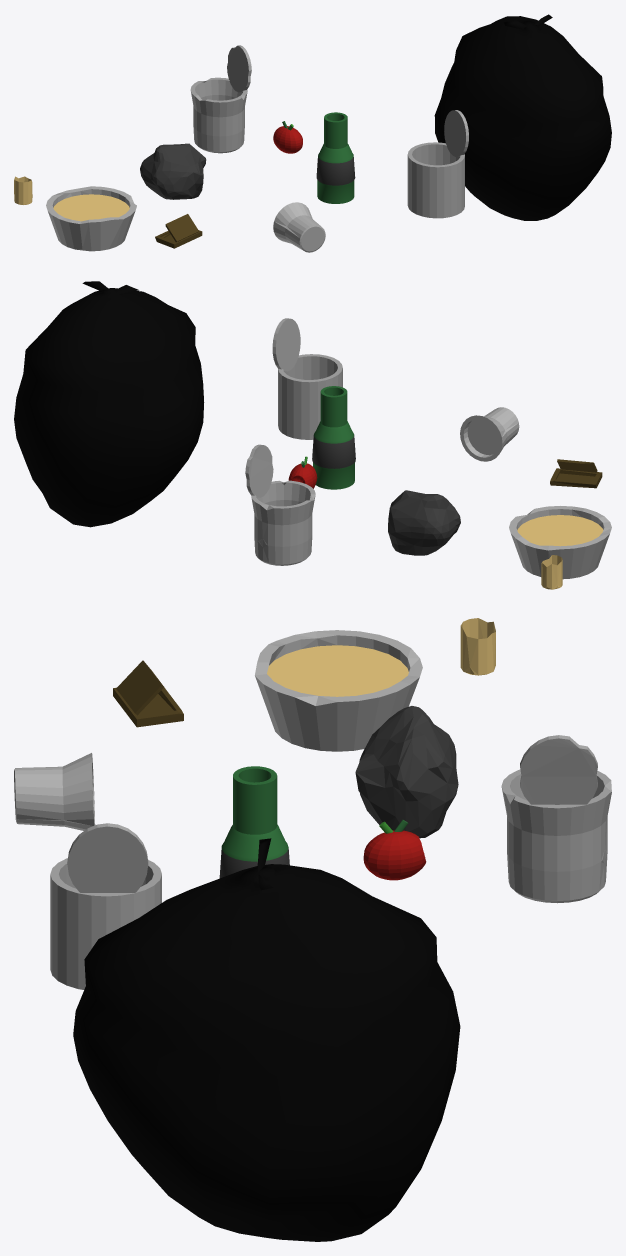
Rendered from rubbish1.fbx.
The picture shows the model from 3 angles, top to bottom: view 1: azimuth 30°, elevation 25°; view 2: azimuth 150°, elevation 25°; view 3: azimuth 270°, elevation 25°; orthographic projection. The views are drawn at different scales.
Visible parts, largest first — view 1: Sphere.001, Cylinder.003, Cylinder.005, Cylinder.002, Sphere, Cylinder, Cylinder.004, Cube, Sphere.002, Cylinder.001; view 2: Sphere.001, Cylinder.002, Cylinder.005, Cylinder.003, Sphere, Cylinder, Cylinder.004, Cube, Cylinder.001, Sphere.002; view 3: Sphere.001, Cylinder.005, Cylinder.002, Cylinder.003, Sphere, Cylinder, Cylinder.004, Cube, Sphere.002, Cylinder.001.
Boxes of the visible parts, x1,y1,x2,y2 form: Sphere.001: (434, 14, 611, 220); Cylinder.003: (407, 110, 468, 218); Cylinder.005: (46, 186, 136, 251); Cylinder.002: (190, 45, 251, 153); Sphere: (140, 143, 206, 199); Cylinder: (316, 112, 355, 203); Cylinder.004: (273, 202, 325, 252); Cube: (155, 214, 202, 248); Sphere.002: (273, 121, 302, 153); Cylinder.001: (14, 176, 32, 204); Sphere.001: (14, 281, 204, 527); Cylinder.002: (245, 444, 315, 565); Cylinder.005: (509, 506, 611, 579); Cylinder.003: (272, 318, 342, 439); Sphere: (388, 490, 460, 555); Cylinder: (312, 386, 355, 489); Cylinder.004: (460, 407, 519, 461); Cube: (550, 459, 602, 488); Cylinder.001: (541, 555, 562, 589); Sphere.002: (288, 456, 317, 488); Sphere.001: (73, 838, 460, 1241); Cylinder.005: (255, 630, 422, 751); Cylinder.002: (501, 735, 611, 903); Cylinder.003: (50, 823, 161, 989); Sphere: (355, 706, 458, 838); Cylinder: (219, 766, 289, 878); Cylinder.004: (14, 753, 95, 830); Cube: (113, 660, 183, 727); Sphere.002: (363, 820, 426, 880); Cylinder.001: (460, 618, 495, 675).
Size of the model in its own units: 897 by 326 by 469.
